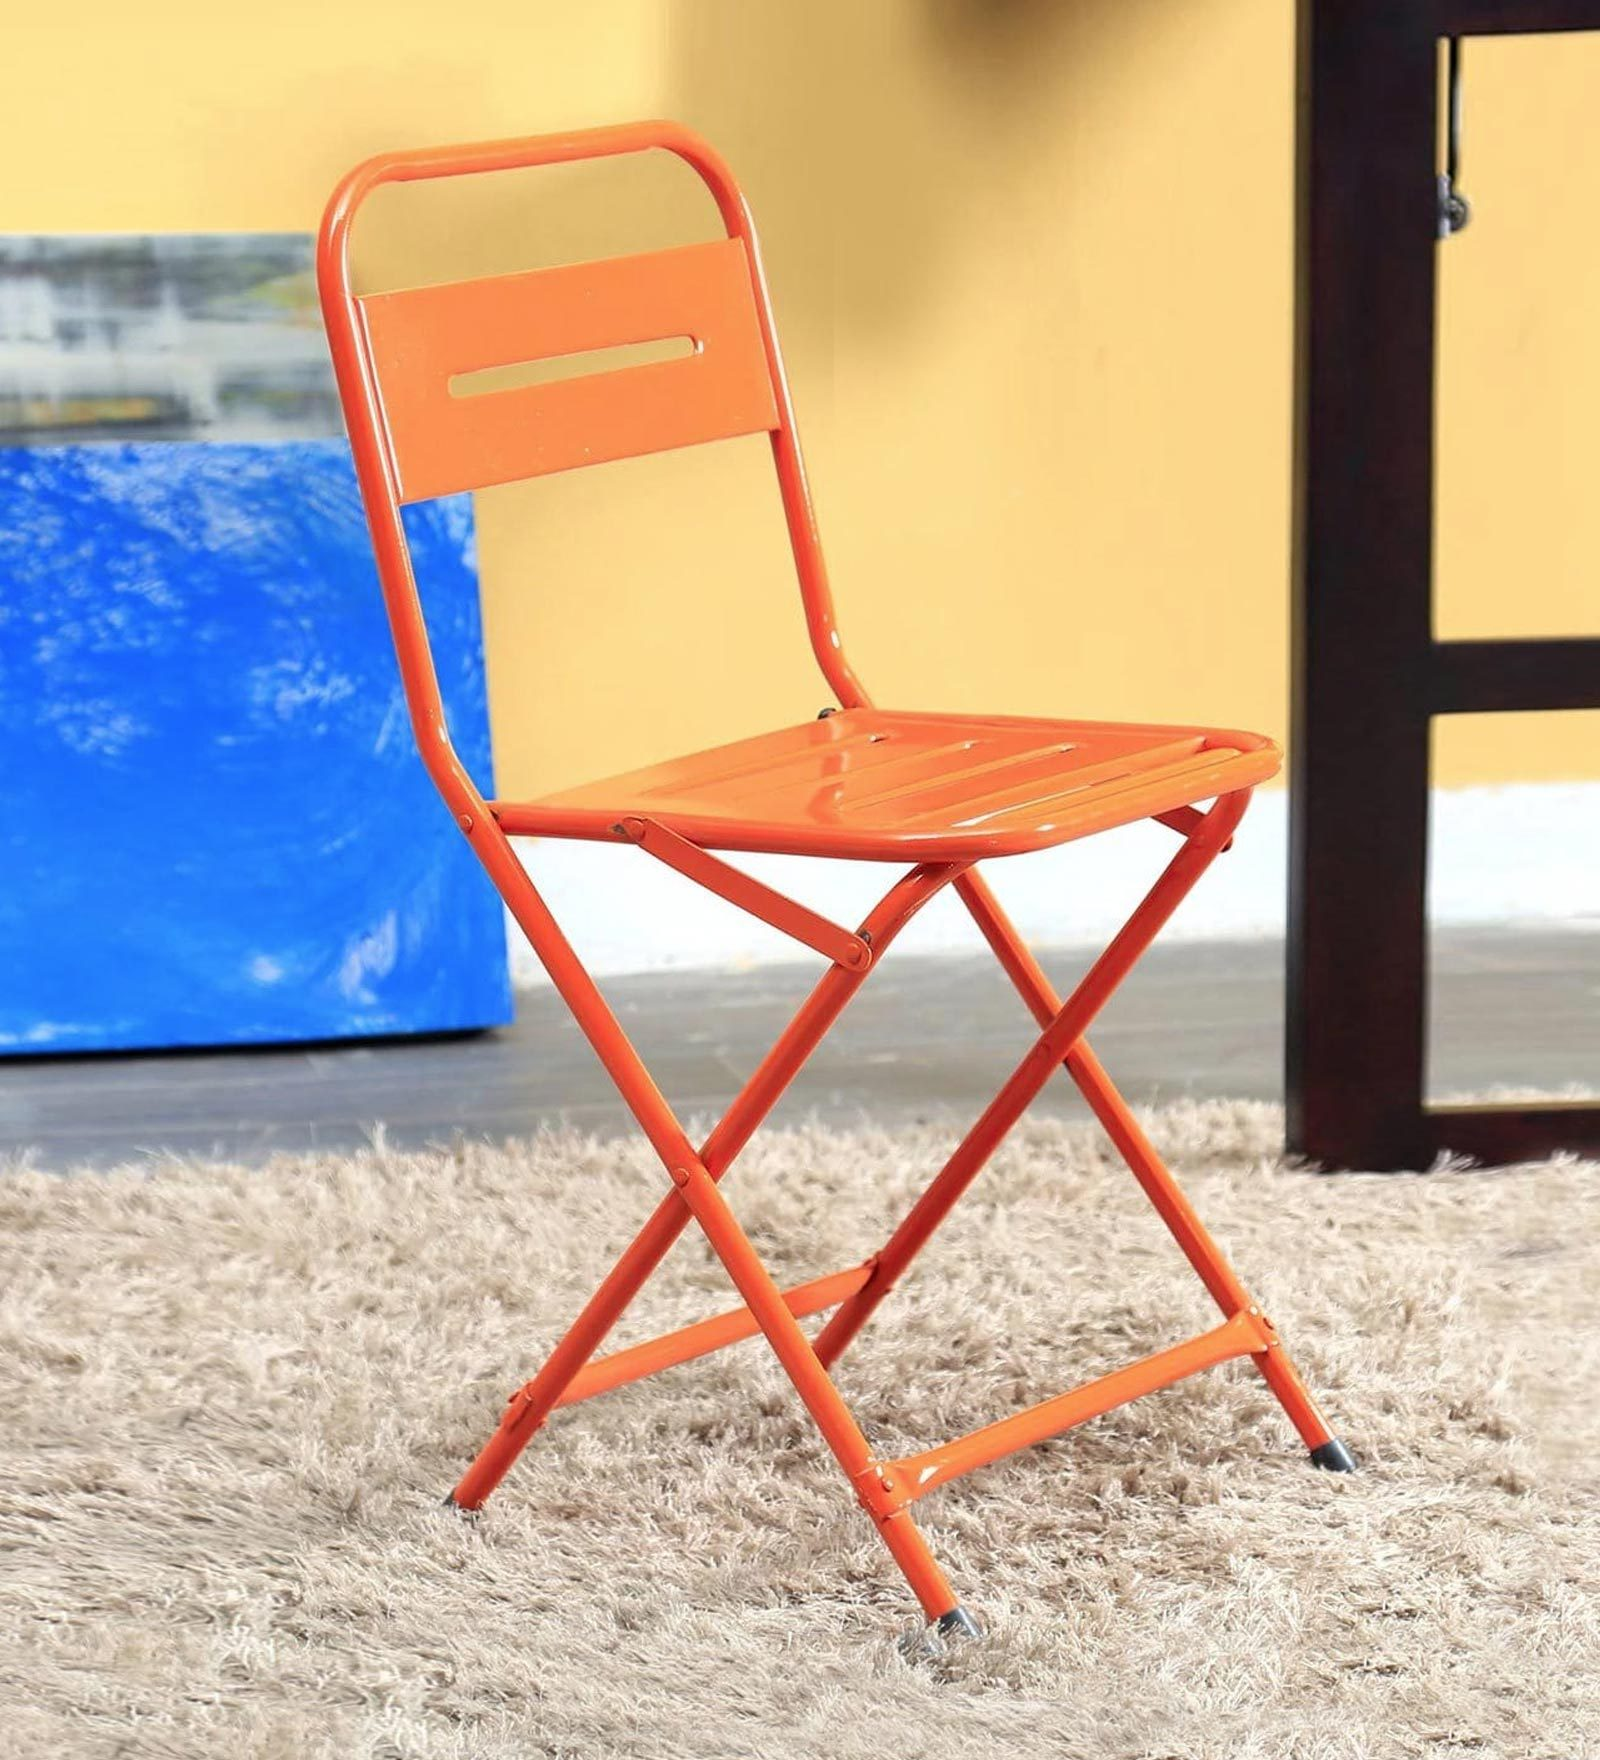Marandoo Grunge Orange Outdoor Folding Chair by Bohemiana: (308, 109, 1362, 1630)
